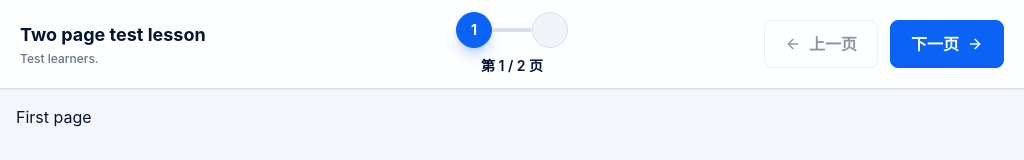
Test case: DeckShell › uses lesson page count for the label and navigation
Expected: the text "第 1 / 2 页" is shown, [481,56,543,76]
Expected: the number of buttons named "跳转到第" is 2, [456,12,492,48]; [532,12,568,48]
Click the button "下一页" at (947, 44), box [890,20,1004,68]
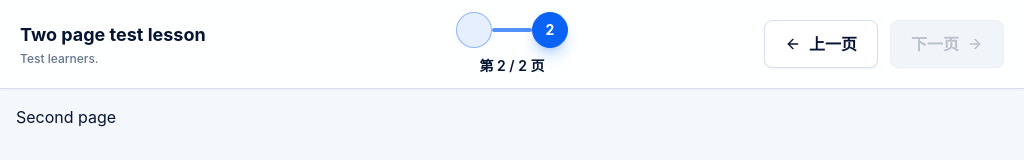
Now the heading "Second page" is shown, box [16,107,116,127]
Now the text "第 2 / 2 页" is shown, box [480,56,544,76]
Now the button "下一页" is disabled, box [890,20,1004,68]
